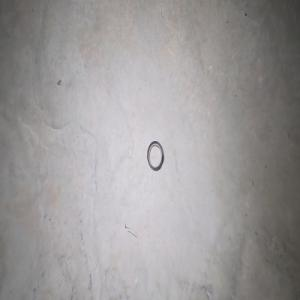Tape: (147, 140, 163, 171)
